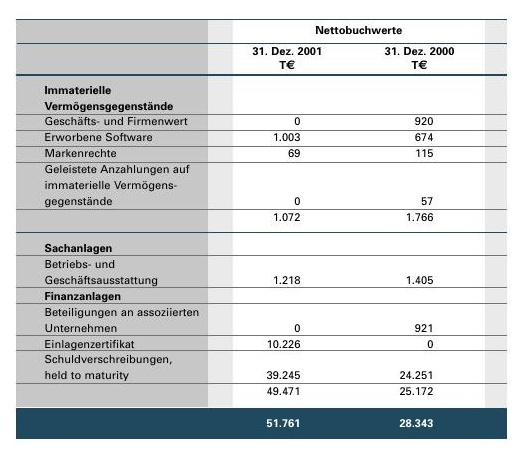table: (0, 0, 528, 459)
